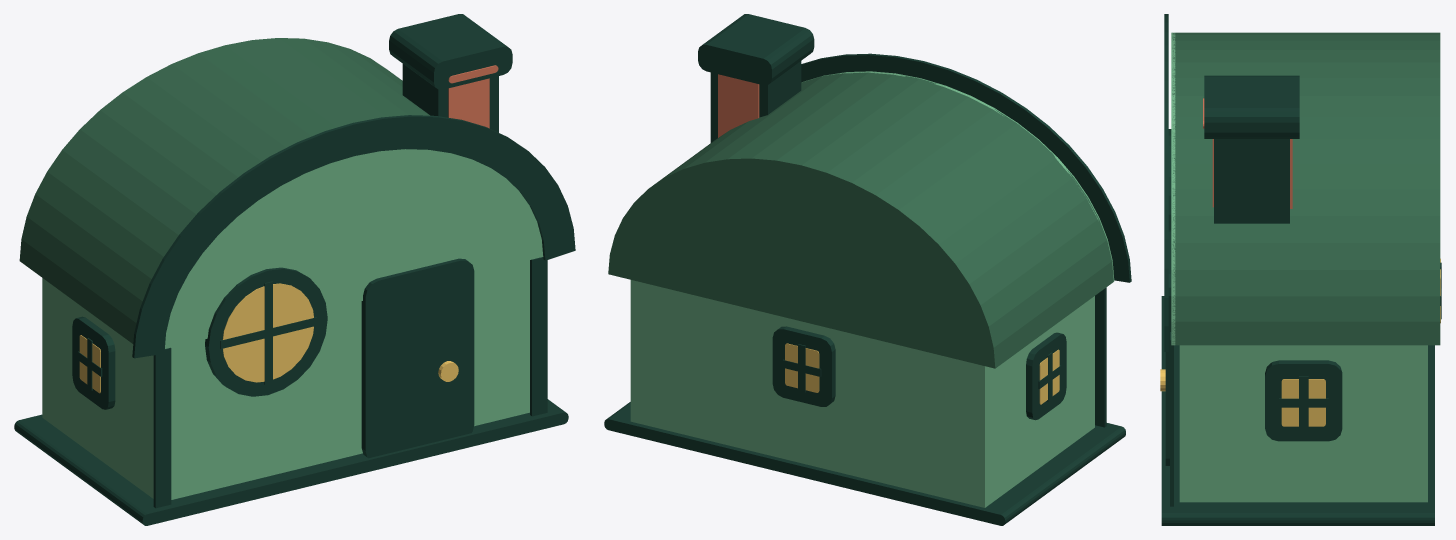
File: variant-06.glb
The picture shows the model from 3 angles, left to right: view 1: azimuth 30°, elevation 25°; view 2: azimuth 150°, elevation 25°; view 3: azimuth 270°, elevation 25°; orthographic projection. The views are drawn at different scales.
Parts seen in each view (by area): view 1: Arch roof; view 2: Arch roof; view 3: Arch roof.
Boxes of the visible parts, x1=… form: Arch roof: x1=14, y1=14, x2=575, y2=525; Arch roof: x1=604, y1=14, x2=1131, y2=525; Arch roof: x1=1160, y1=14, x2=1441, y2=525.
Size of the model in its own units: 1.12 by 0.9057 by 0.5829.
